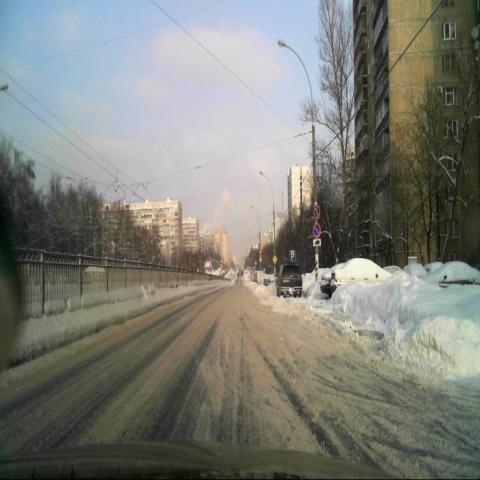3_28: (312, 222, 321, 239)
3_29: (313, 204, 320, 219)
6_4: (289, 250, 296, 262)
